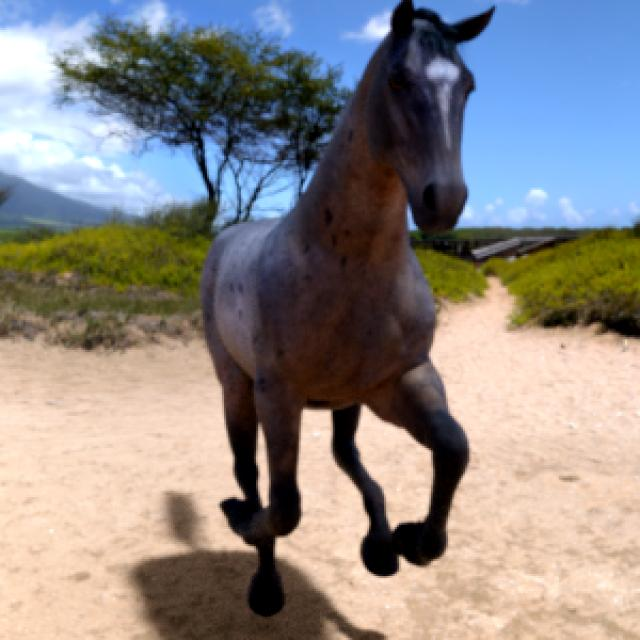horse: (204, 0, 492, 614)
